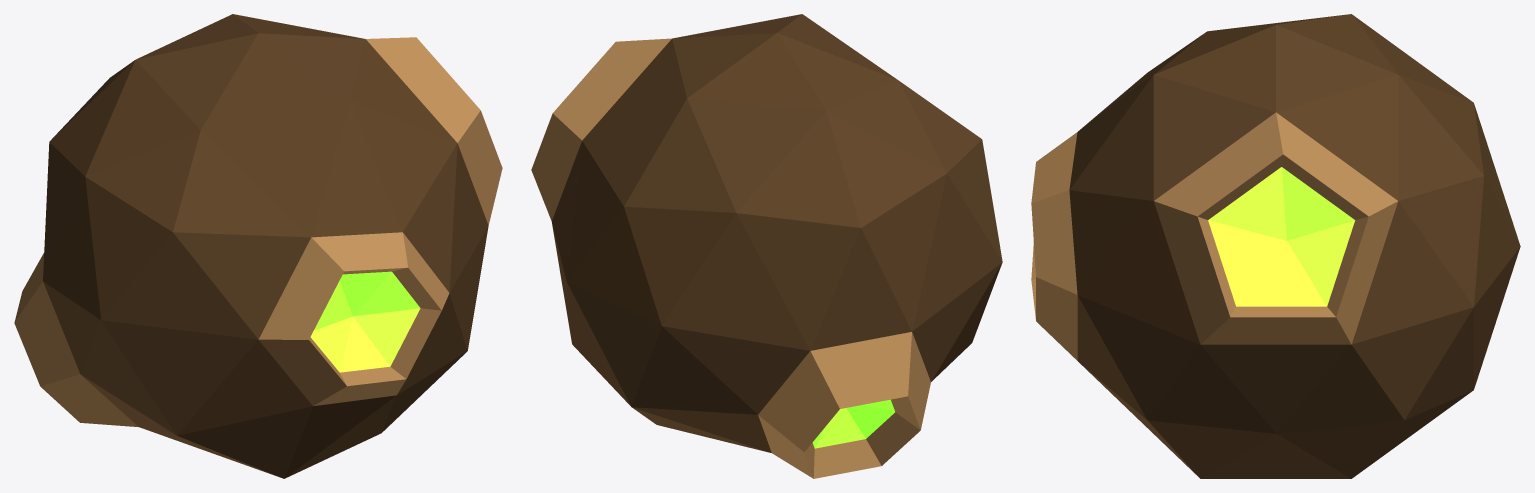
File: meteor.fbx
The picture shows the model from 3 angles, left to right: view 1: azimuth 30°, elevation 25°; view 2: azimuth 150°, elevation 25°; view 3: azimuth 270°, elevation 25°; orthographic projection. The views are drawn at different scales.
Visible parts, largest first — view 1: Icosphere; view 2: Icosphere; view 3: Icosphere.
Boxes of the visible parts, <box> form: Icosphere: <box>14,14,502,478</box>; Icosphere: <box>531,14,1002,478</box>; Icosphere: <box>1031,14,1520,478</box>.
Bounding box in the file's own units: 204 × 200 × 200.
